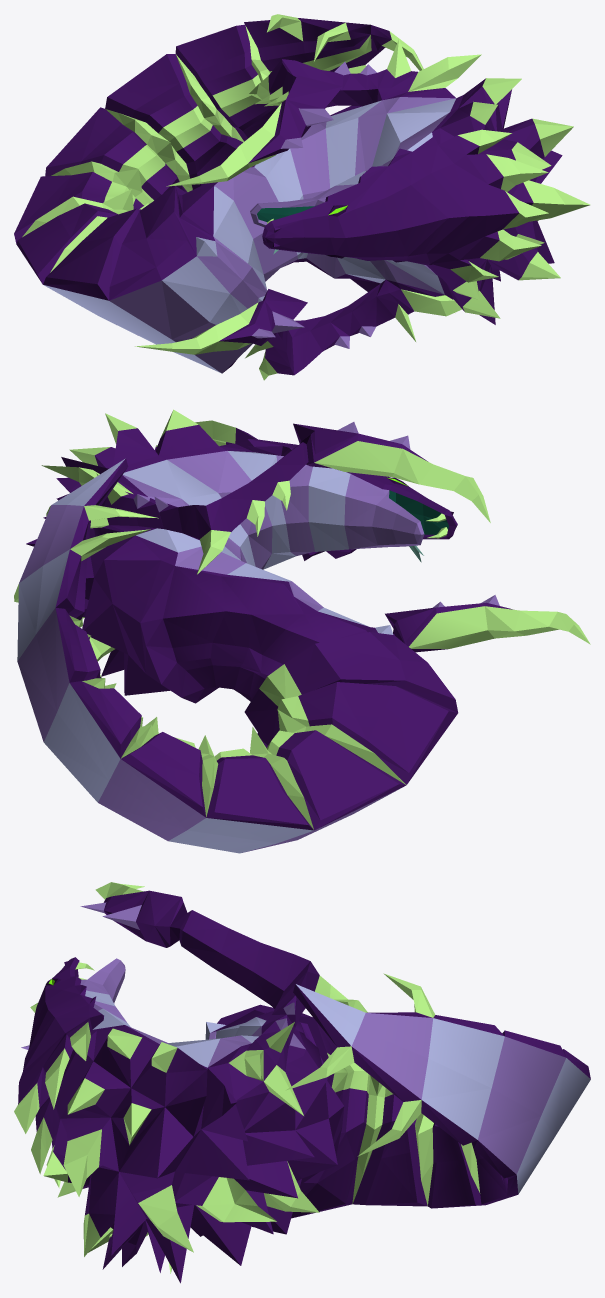
The model's file is Dead (28).obj.
3 views of the same model, one above another, from view 1: azimuth 30°, elevation 25°; view 2: azimuth 150°, elevation 25°; view 3: azimuth 270°, elevation 25° (orthographic). The views are drawn at different scales.
Visible parts, largest first — view 1: Alien_Serpent; view 2: Alien_Serpent; view 3: Alien_Serpent.
Part boxes in pixels (x1=…): Alien_Serpent: x1=14, y1=14, x2=590, y2=380; Alien_Serpent: x1=14, y1=409, x2=590, y2=853; Alien_Serpent: x1=14, y1=882, x2=590, y2=1283.
Bounding box in the file's own units: 239 × 159 × 235.
1 material, 1 textured.
